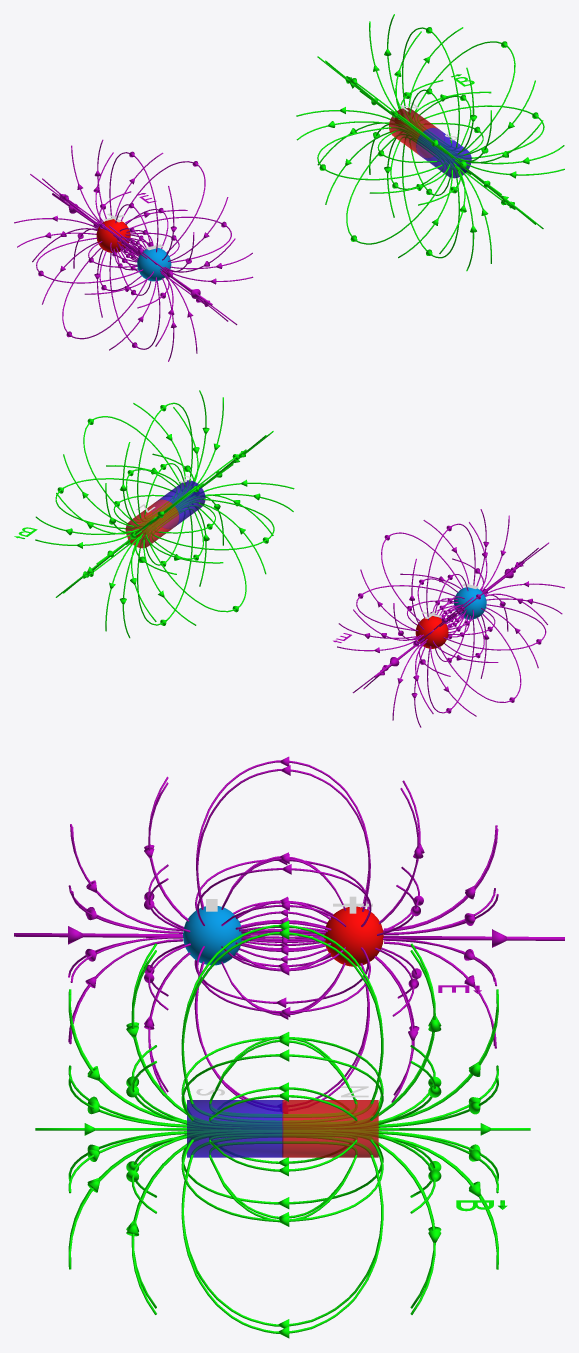
The model's file is comparacion.dae.
The picture shows the model from 3 angles, top to bottom: view 1: azimuth 30°, elevation 25°; view 2: azimuth 150°, elevation 25°; view 3: azimuth 270°, elevation 25°; orthographic projection. The views are drawn at different scales.
Parts seen in each view (by area): view 1: Comparacion-dipolos; view 2: Comparacion-dipolos; view 3: Comparacion-dipolos.
Part boxes in pixels (x1,y1,x2,y2): Comparacion-dipolos: (14,14,564,361); Comparacion-dipolos: (14,390,564,727); Comparacion-dipolos: (14,756,564,1338).
Bounding box in the file's own units: 14.15 × 7.67 × 6.71.
